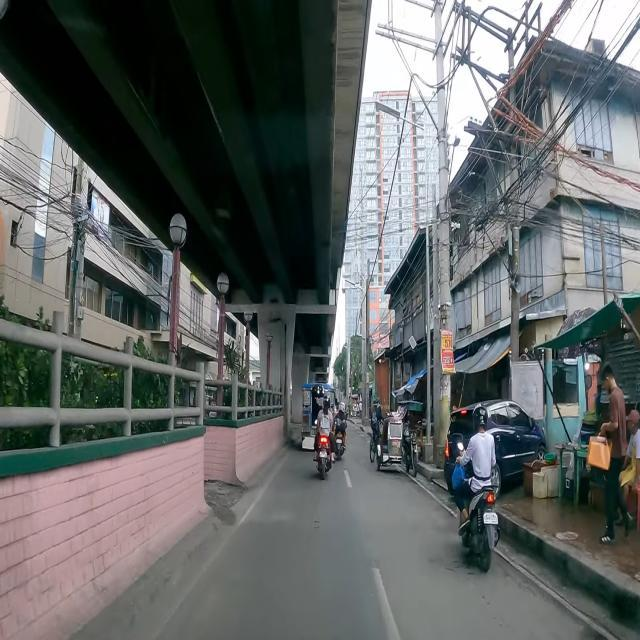bike: (370, 398, 385, 464)
car: (443, 400, 549, 502)
jeepney: (301, 382, 335, 452)
motorcycle: (450, 403, 500, 572), (377, 402, 422, 476), (314, 396, 336, 480), (334, 402, 348, 459)
